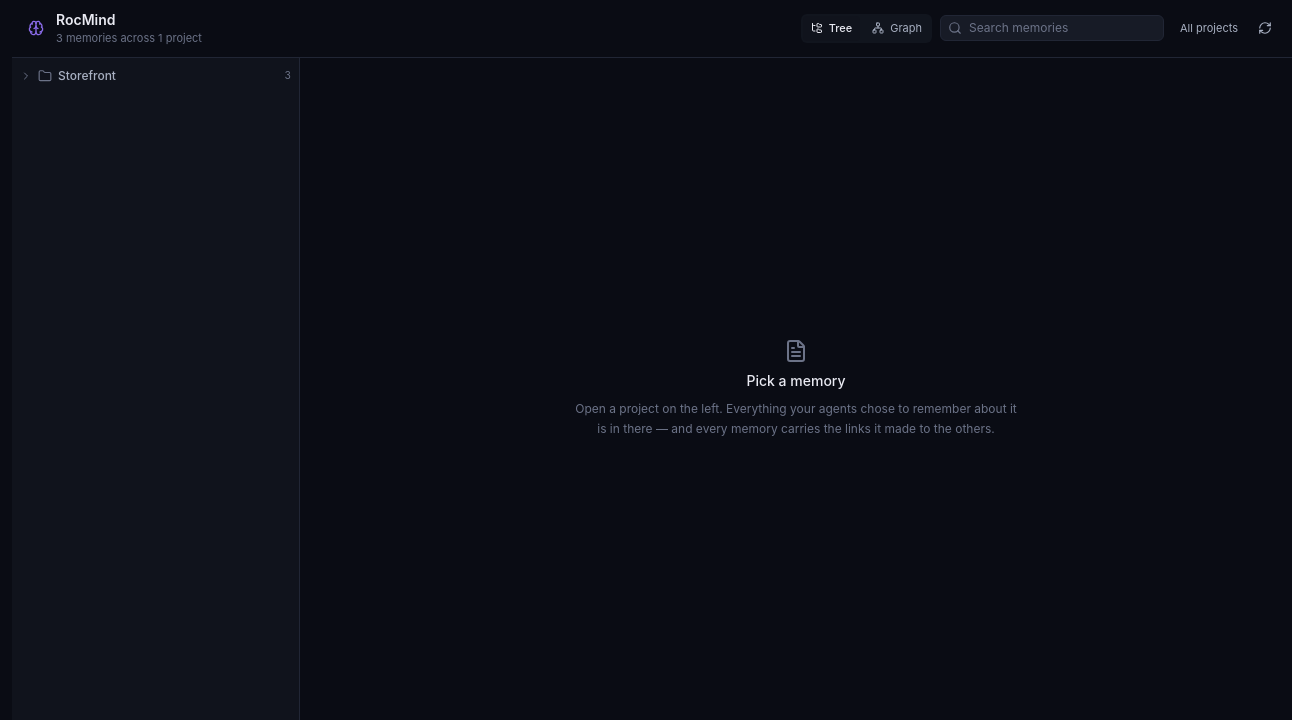
Test case: the memory pane › shows the description as a subtitle, the type as a chip, and the body
Click the button "Storefront 3".
click(87, 75)  # box [12,62,299,90]
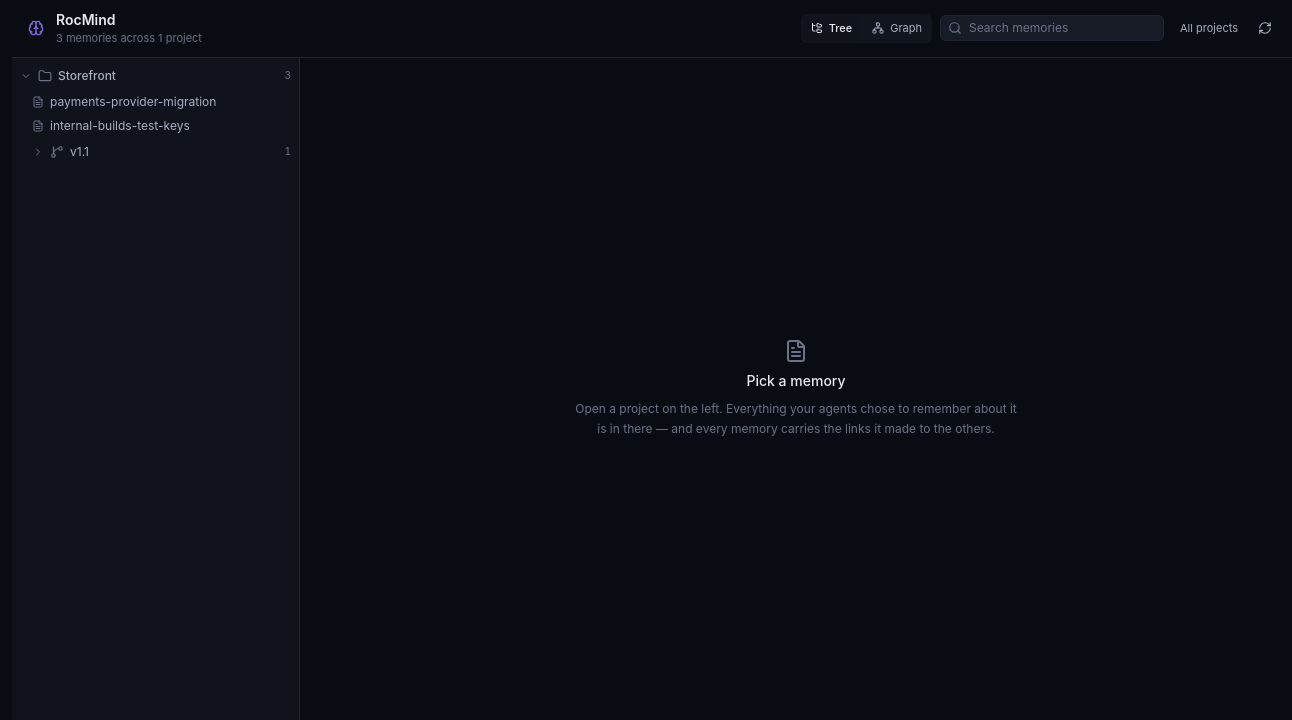
Click the button "payments-provider-migration".
click(162, 102)  # box [24,90,299,114]
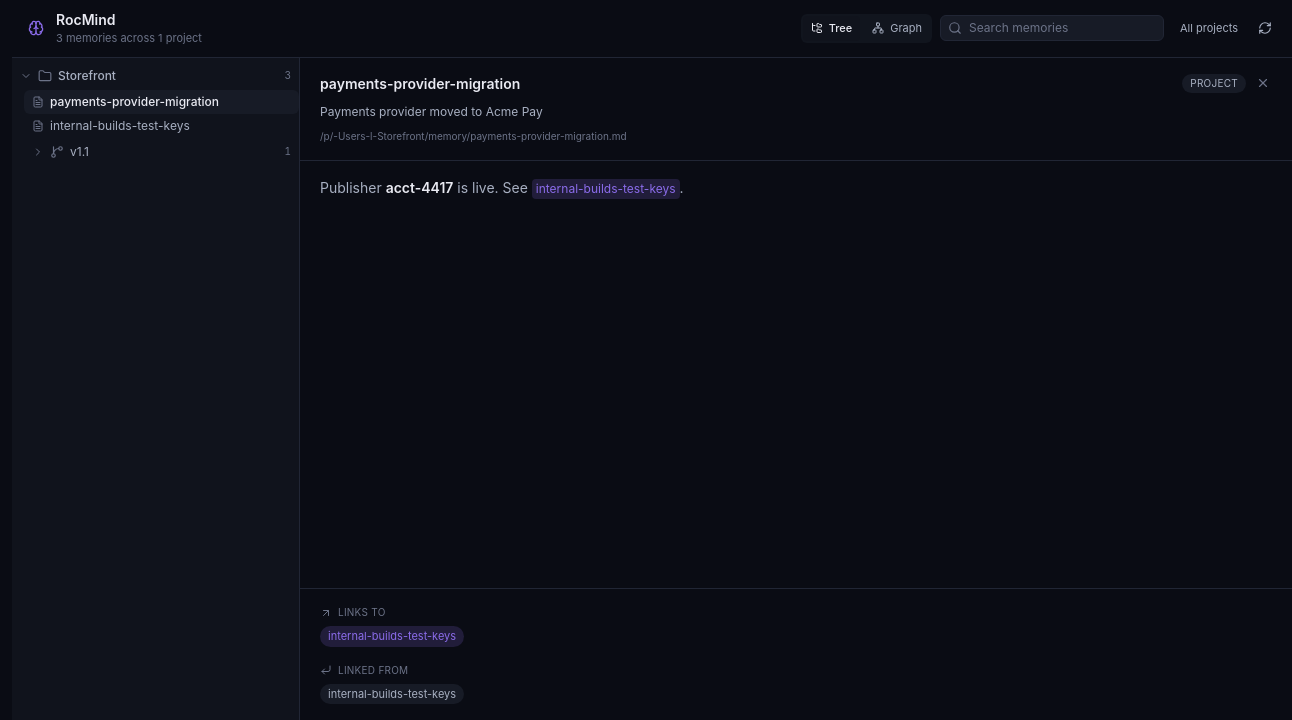
Expected: the text "project" is shown, [1182,74,1246,92]
Expected: the text "Payments provider moved to Acme Pay" is shown, [320,104,543,118]
Expected: the text "acct-4417" is shown, [386,179,453,196]
